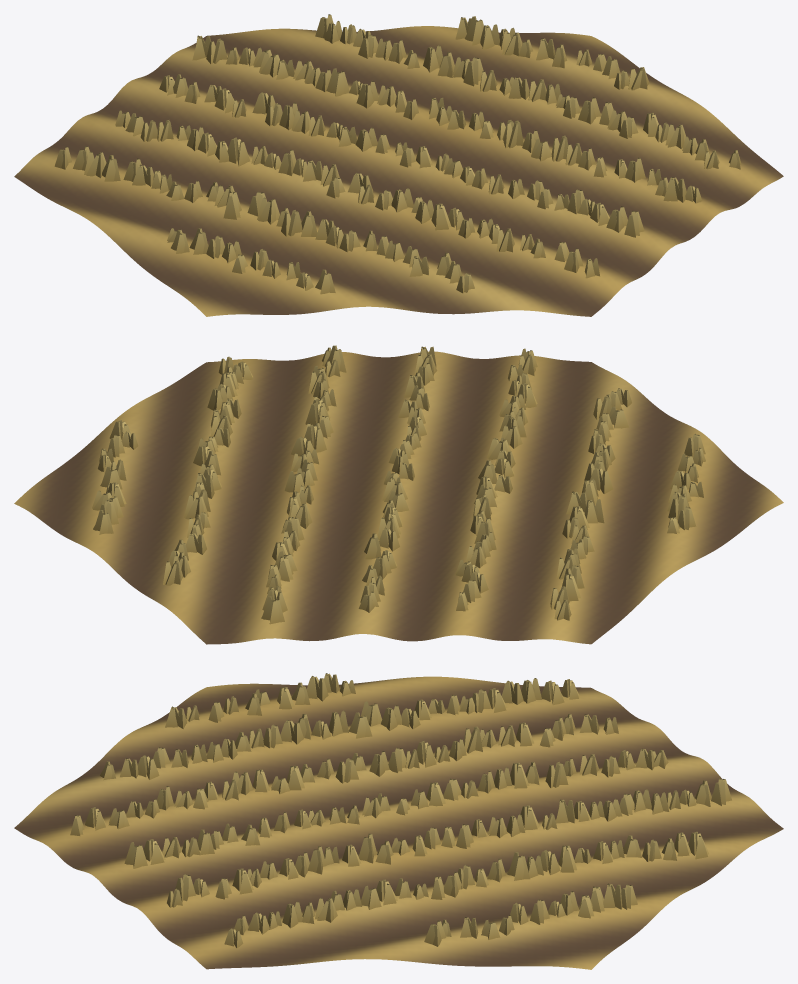
The model's file is terrain_fields.glb.
3 views of the same model, one above another, from view 1: azimuth 30°, elevation 25°; view 2: azimuth 150°, elevation 25°; view 3: azimuth 270°, elevation 25° (orthographic).
Visible parts, largest first — view 1: fields_ground, fields_tufts; view 2: fields_ground, fields_tufts; view 3: fields_ground, fields_tufts.
Boxes of the visible parts, x1,y1,x2,y2 form: fields_ground: [14, 26, 783, 316]; fields_tufts: [54, 14, 741, 294]; fields_ground: [14, 351, 783, 644]; fields_tufts: [92, 345, 705, 624]; fields_ground: [14, 676, 783, 969]; fields_tufts: [70, 673, 731, 947].
Bounding box in the file's own units: 1.52 × 0.1039 × 1.76.
